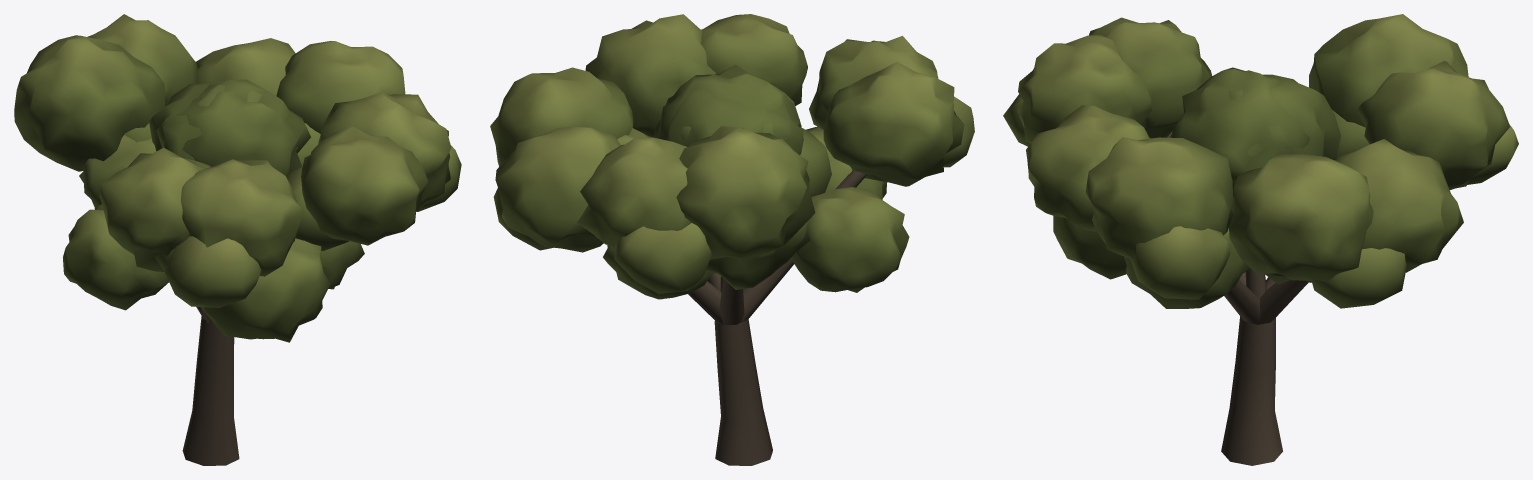
Rendered from b05_orchard_tree.glb.
3 renders of one model, left to right at view 1: azimuth 30°, elevation 25°; view 2: azimuth 150°, elevation 25°; view 3: azimuth 270°, elevation 25°, orthographic. The views are drawn at different scales.
Parts seen in each view (by area): view 1: b05_orchard_tree; view 2: b05_orchard_tree; view 3: b05_orchard_tree.
Boxes of the visible parts, x1,y1,x2,y2 form: b05_orchard_tree: (14, 14, 461, 465); b05_orchard_tree: (490, 14, 974, 465); b05_orchard_tree: (1003, 14, 1518, 465).
Size of the model in its own units: 0.8662 by 0.8602 by 1.
